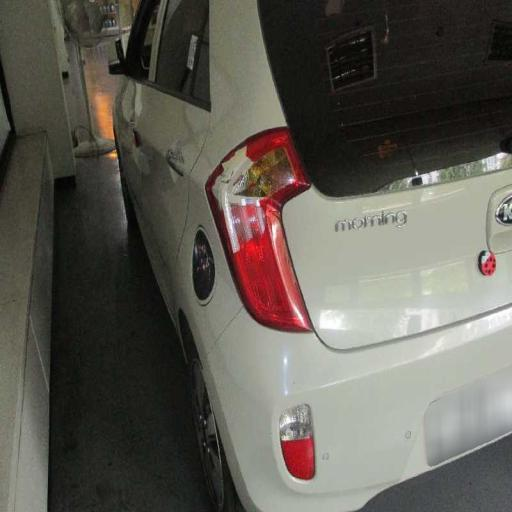scratch: (198, 109, 322, 322)
